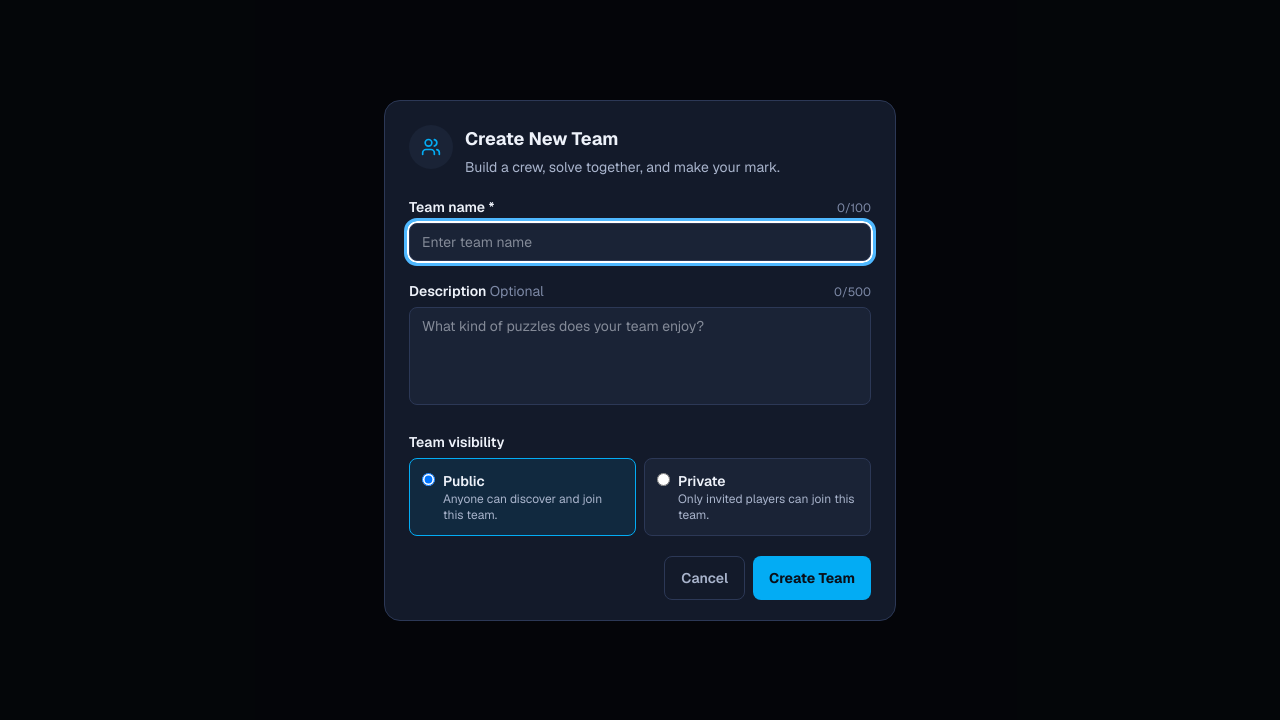
Test: CreateTeamModal — form interaction › 55. selecting Private sets Private checked; 56. clears Public
Click the radio button with test id "create-team-visibility-private" at (664, 479), box [657,472,670,486]
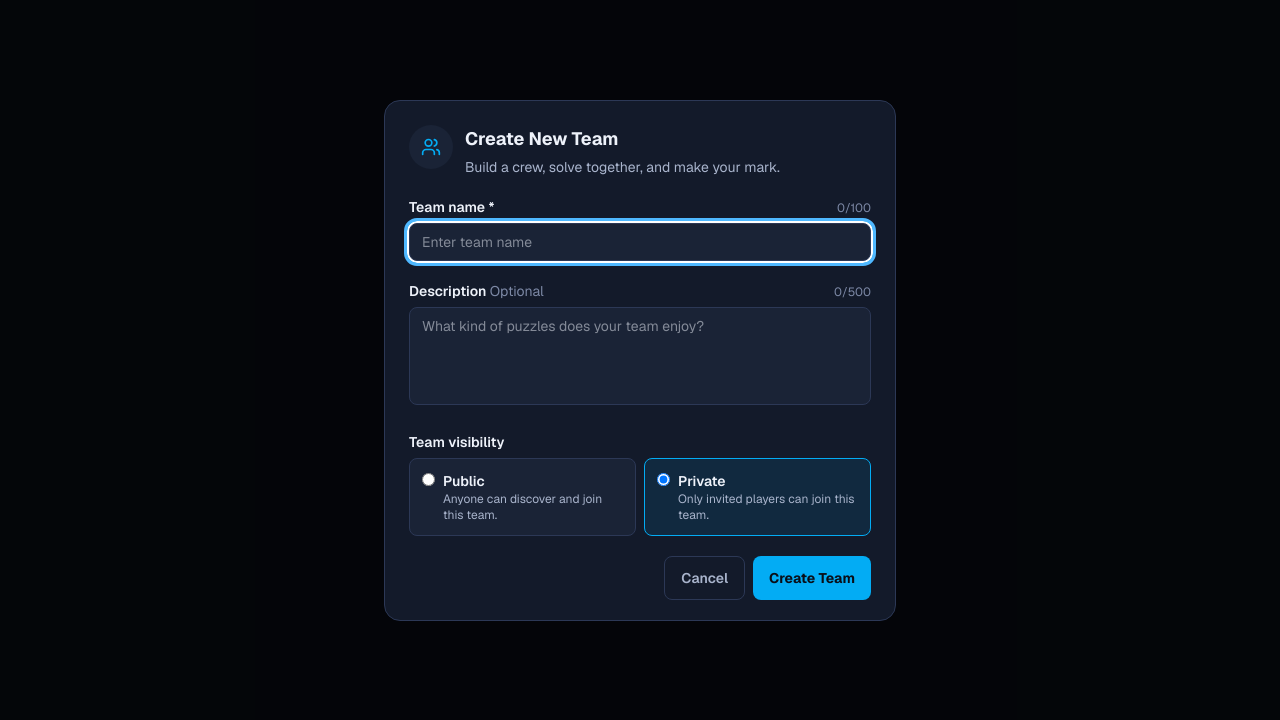
expect the radio button with test id "create-team-visibility-private" is checked: met, box [657,472,670,486]
expect the radio button with test id "create-team-visibility-public" is not checked: met, box [422,472,435,486]
